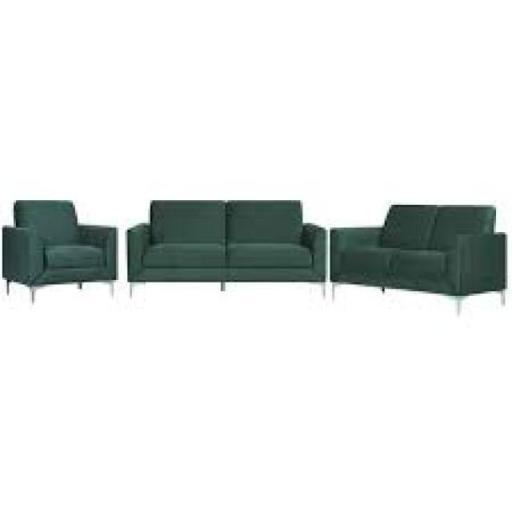sofa: (0, 179, 512, 351)
